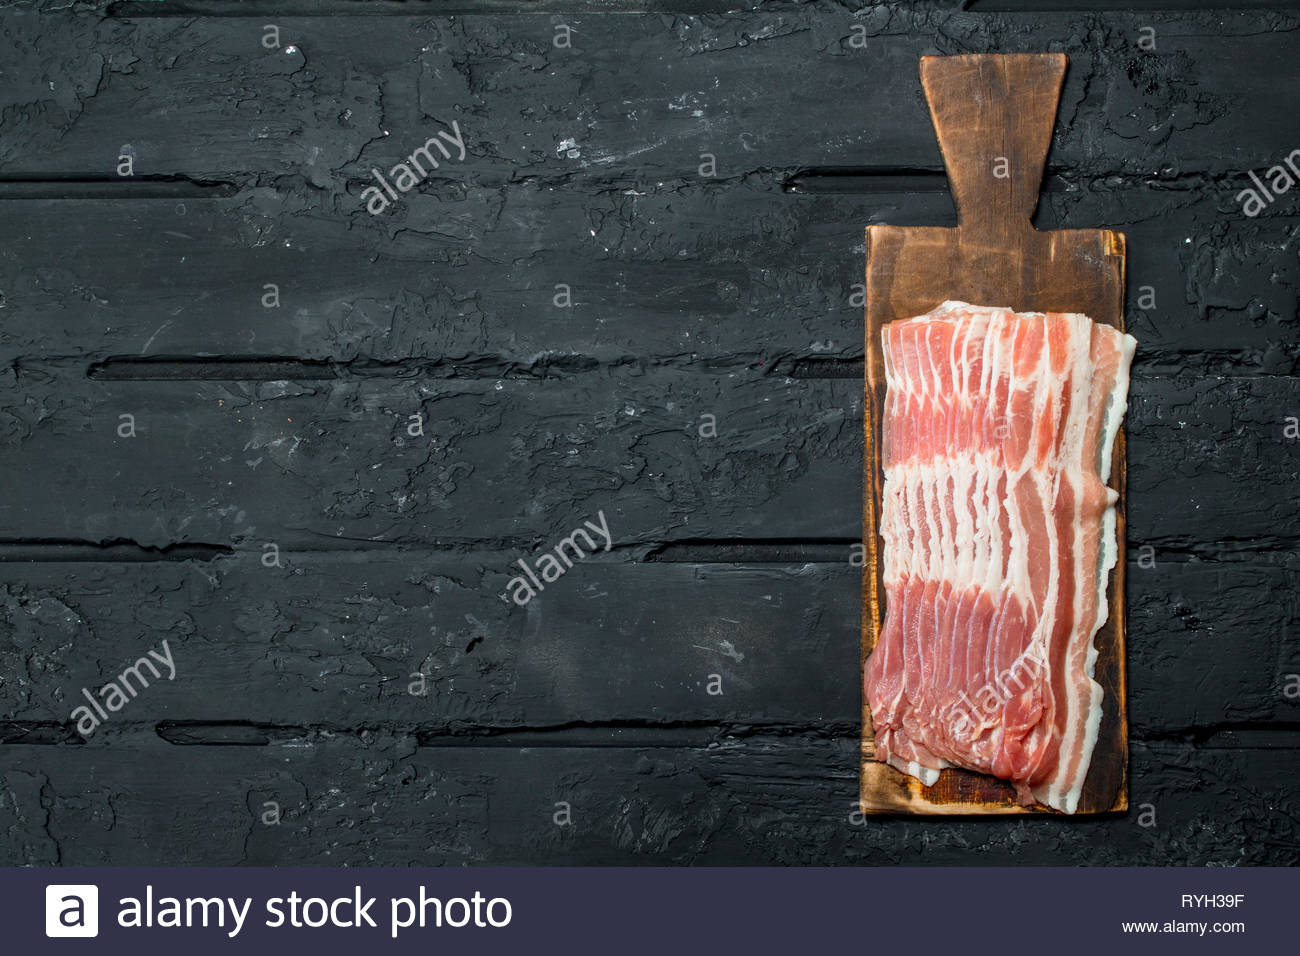bacon: (868, 306, 1116, 796)
